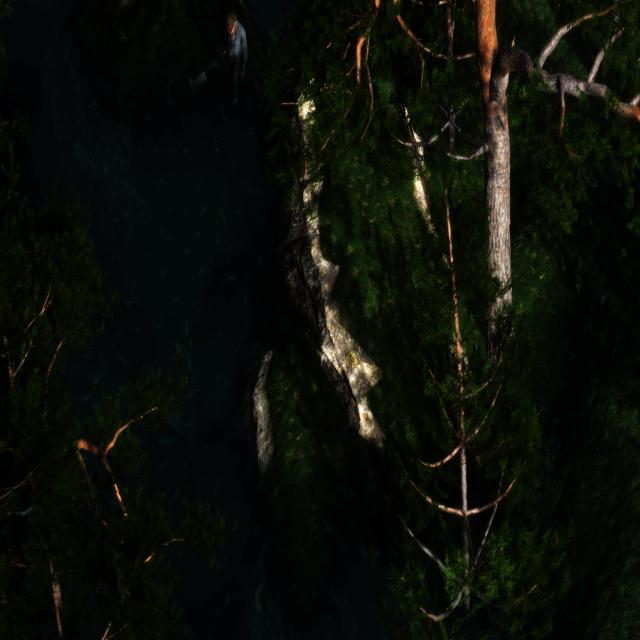Human: (184, 12, 251, 122)
